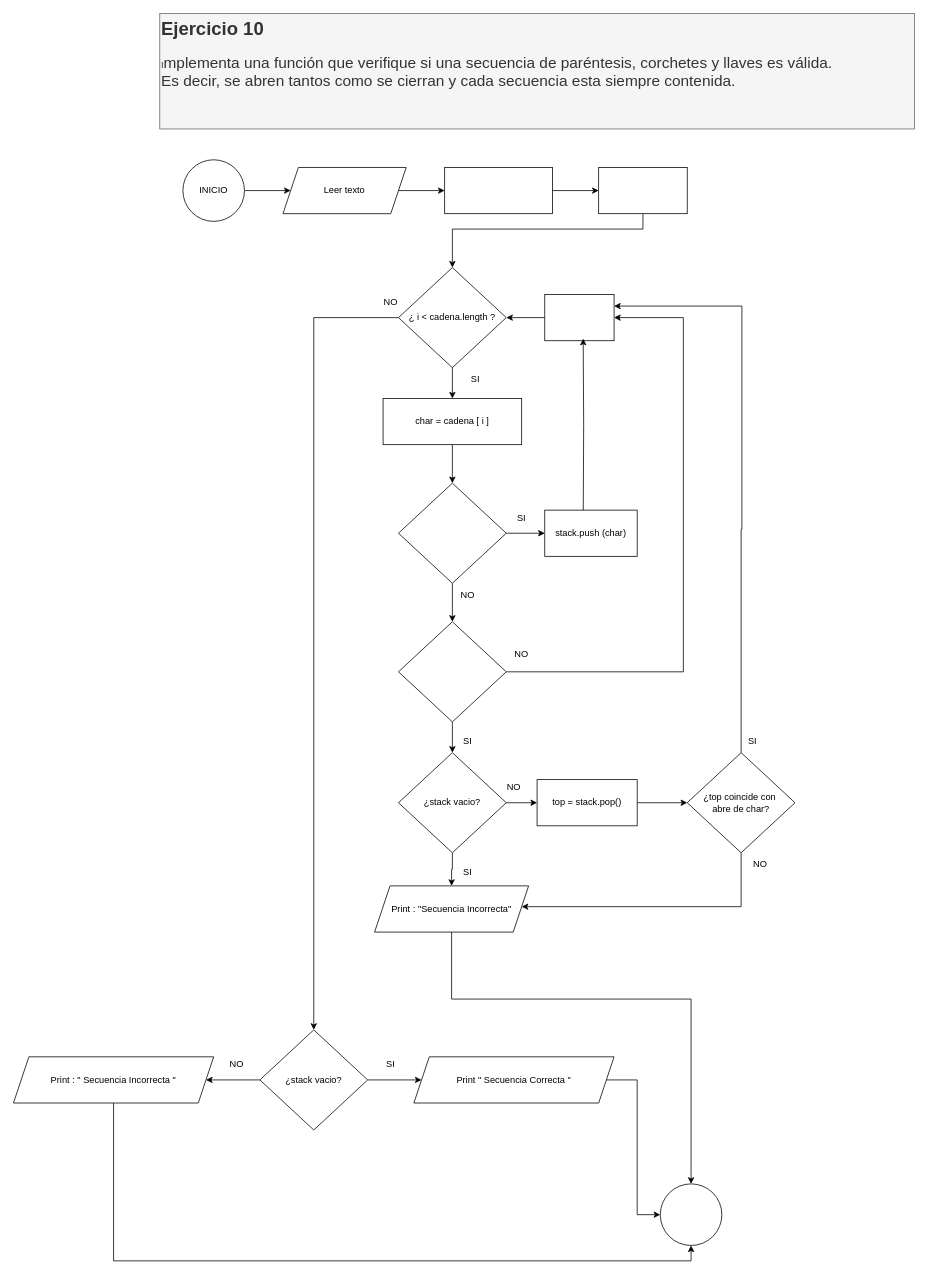
The diagram is 928 pixels wide and 1281 high, and some of its shapes have lost their labels. The shapes that lost their labels are listed below. From the top down, each one's centre as x and y in pixels, then its label:
pixel 498 190: Stack = [ ]
pixel 642 190: i = 0
pixel 579 317: i + +
pixel 452 532: ¿char es "(", "[", "{"?
pixel 452 671: ¿ char es ")", "]", "}" ?
pixel 691 1214: FIN
